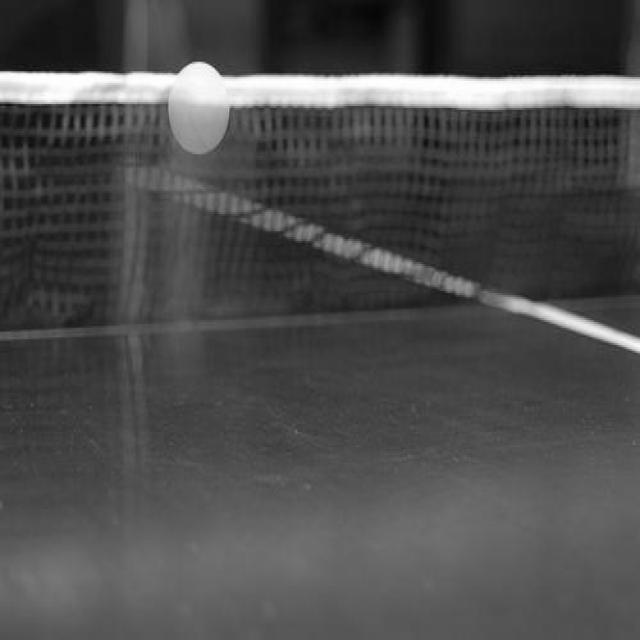ping-pong-ball: (167, 60, 233, 156)
